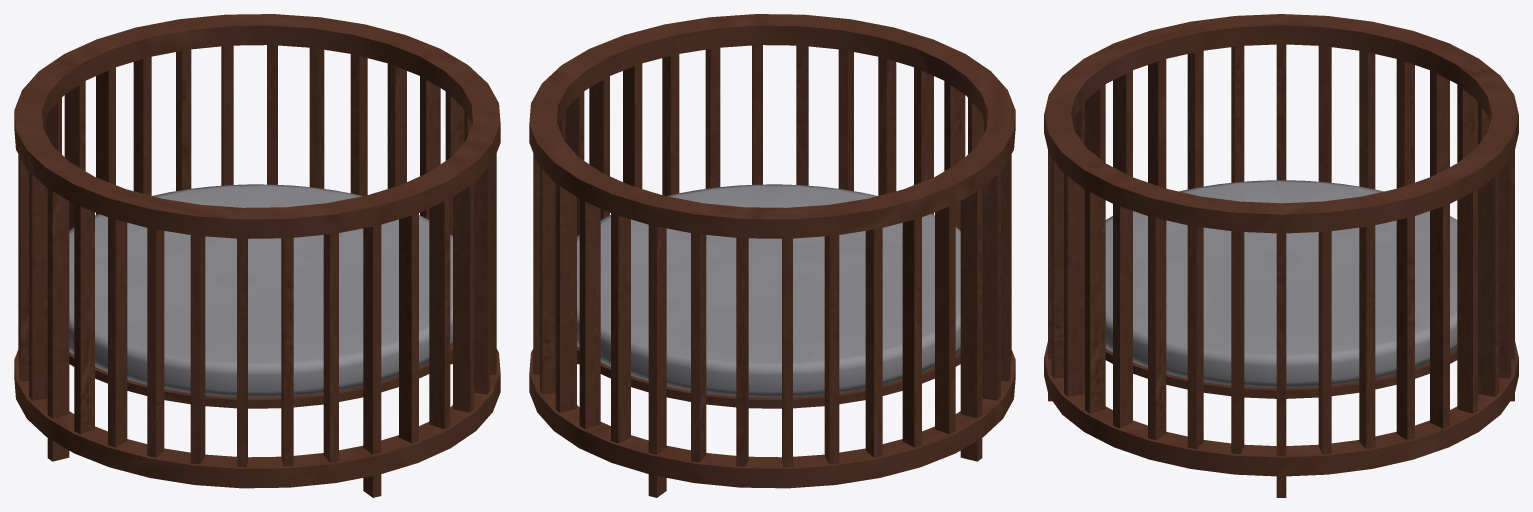
Rendered from Bed38.glb.
3 renders of one model, left to right at view 1: azimuth 30°, elevation 25°; view 2: azimuth 150°, elevation 25°; view 3: azimuth 270°, elevation 25°, orthographic. The views are drawn at different scales.
Visible parts, largest first — view 1: BedFrame38, Mattress38; view 2: BedFrame38, Mattress38; view 3: BedFrame38, Mattress38.
Part boxes in pixels (<box>): BedFrame38: <box>14,14,500,497</box>; Mattress38: <box>69,184,452,397</box>; BedFrame38: <box>529,14,1015,497</box>; Mattress38: <box>577,184,960,397</box>; BedFrame38: <box>1044,14,1518,497</box>; Mattress38: <box>1105,180,1457,387</box>.
Bounding box in the file's own units: 3.52 × 2.33 × 3.52.
2 materials, 2 textured.
